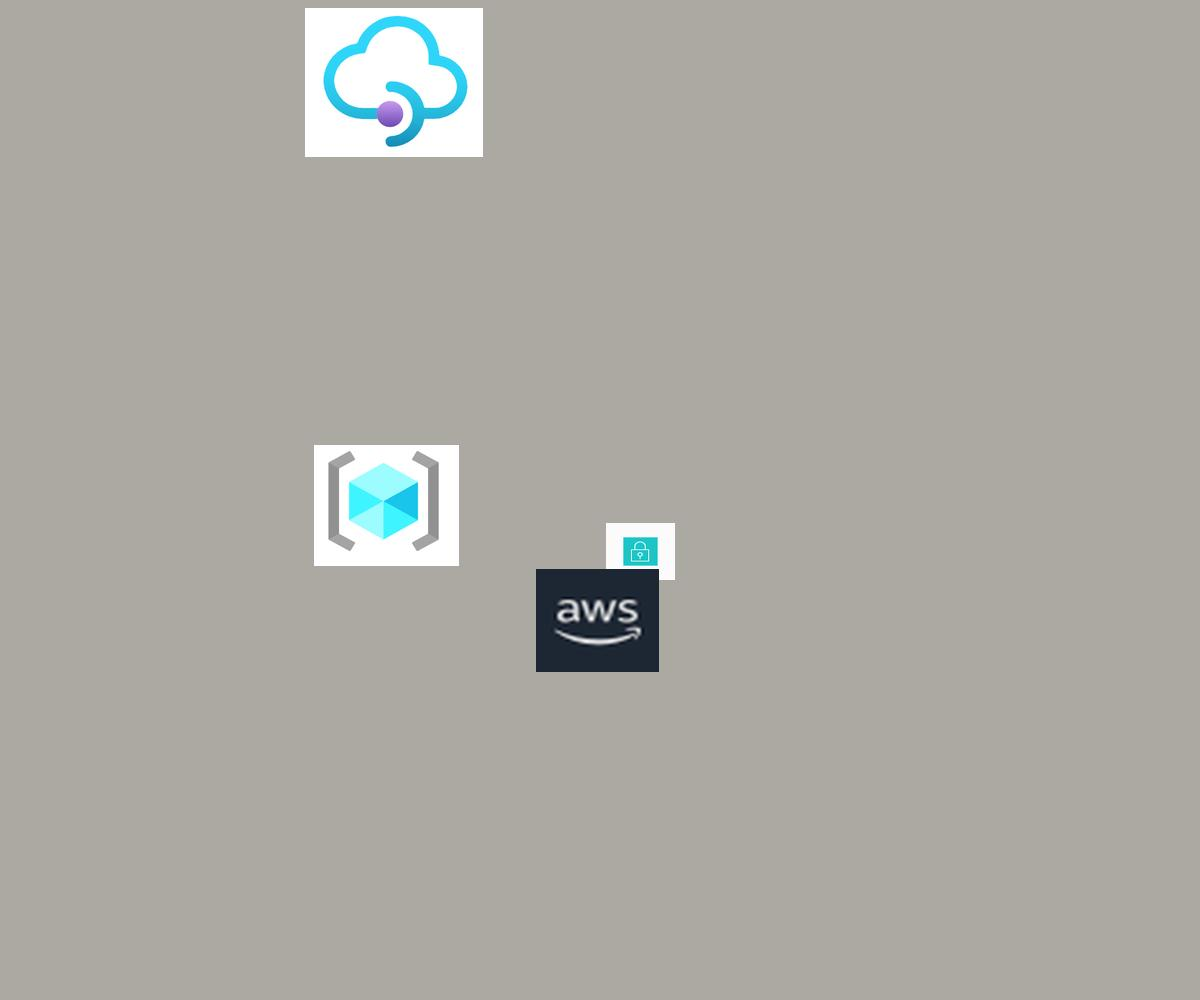AWS-Cloud-logo: (536, 569, 659, 672)
AWS-Private-subnet: (606, 523, 675, 580)
Azure_api_gateway: (305, 8, 483, 157)
Azure_resource_group: (314, 445, 459, 566)
